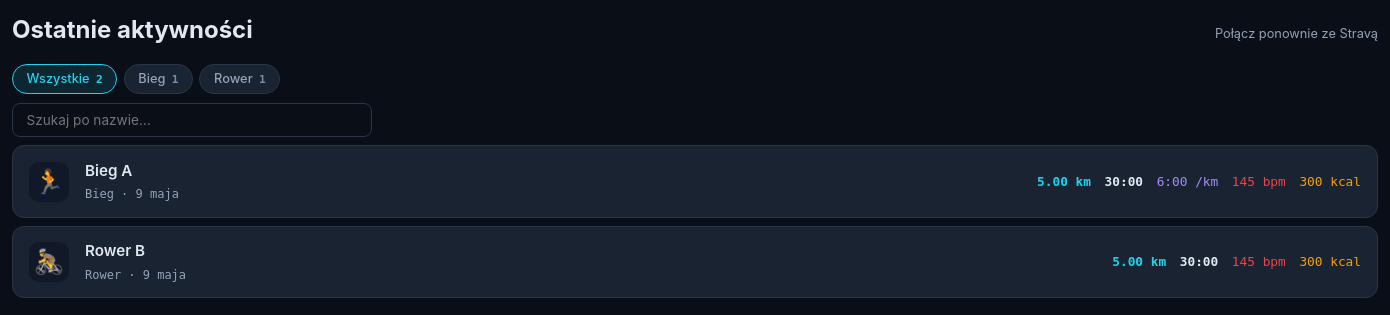
Test: A8 filters › chip drugi click resetuje filter
Expected: the text "Bieg A" is shown, [85, 161, 132, 180]
Click the button "Bieg 1".
click(158, 79)  # box [124, 64, 193, 94]
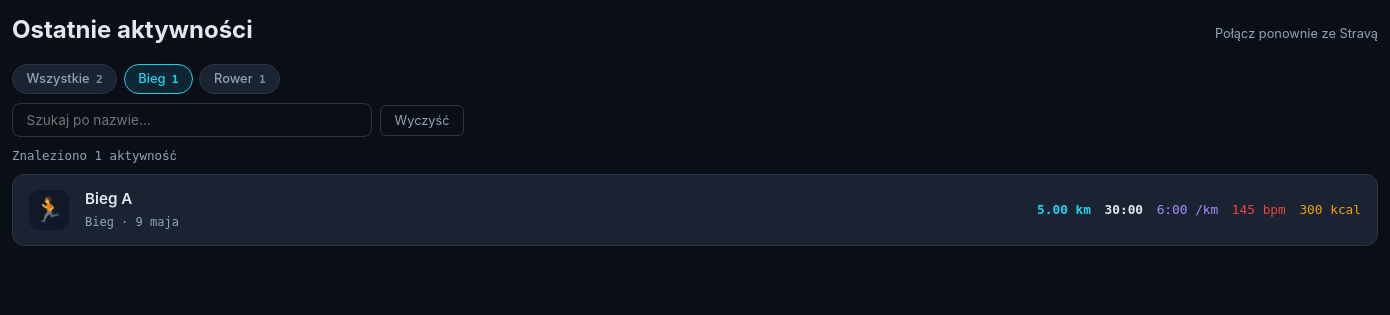
Result: the text "Rower B" is gone
Click the button "Bieg 1".
click(158, 79)  # box [124, 64, 193, 94]
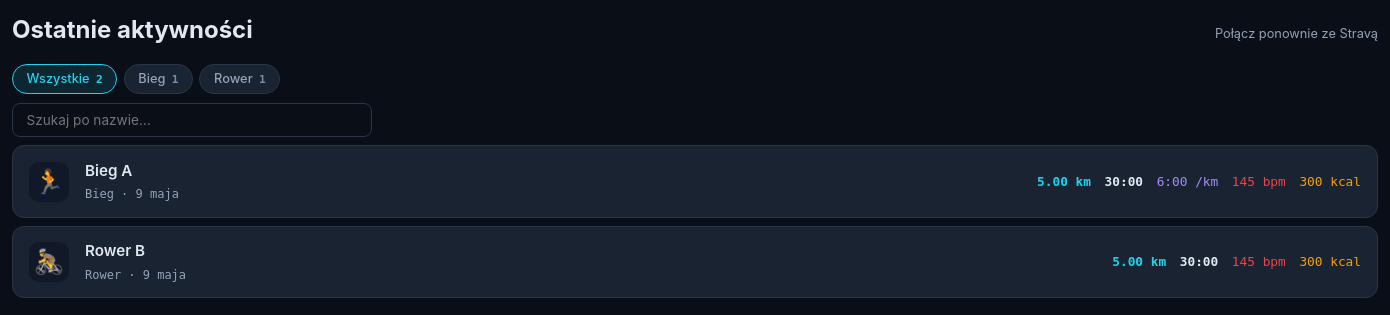
Result: the text "Rower B" is shown at [85, 241, 145, 260]
